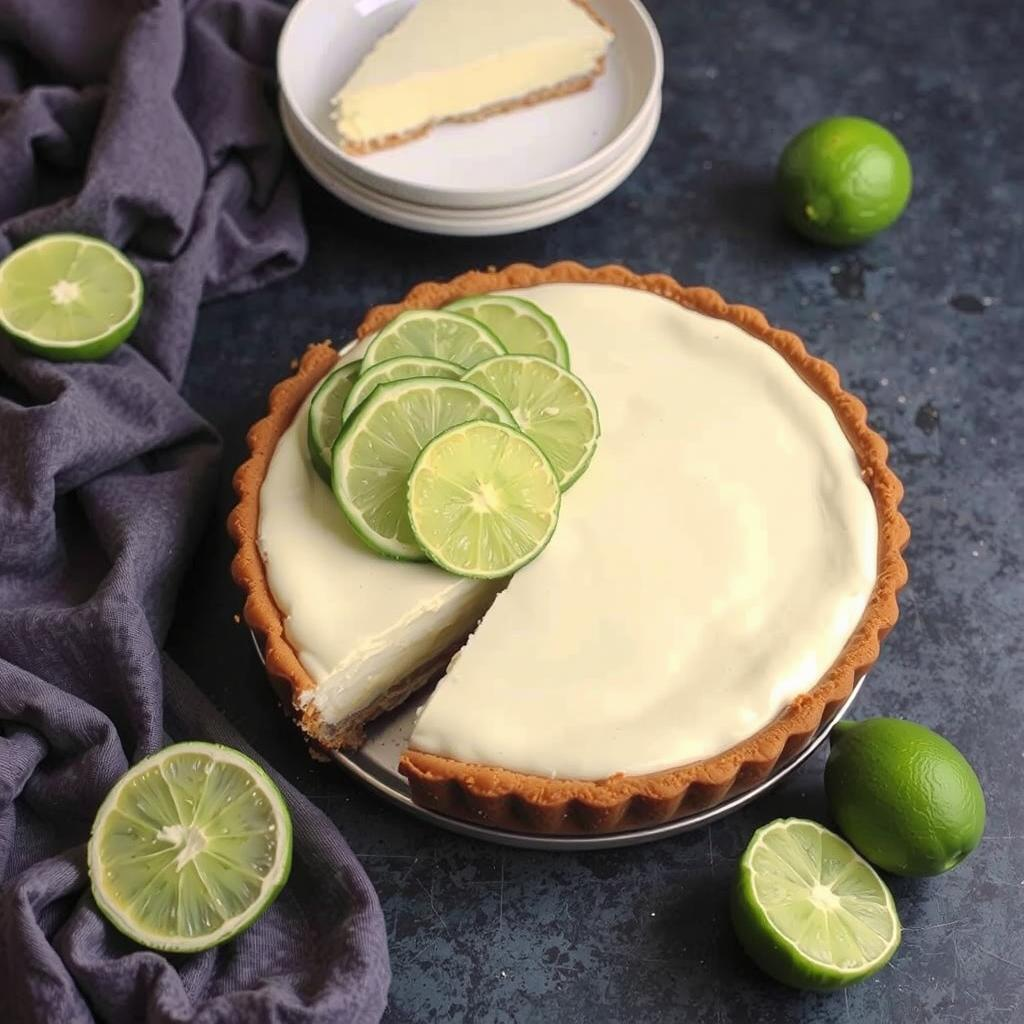pie: (219, 254, 924, 840)
